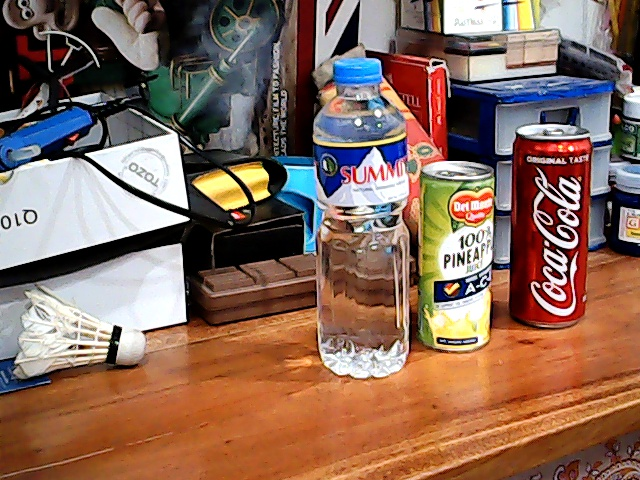Cola: (503, 120, 599, 334)
Pine Juice: (414, 157, 497, 357)
Summit Water: (307, 61, 419, 388)
